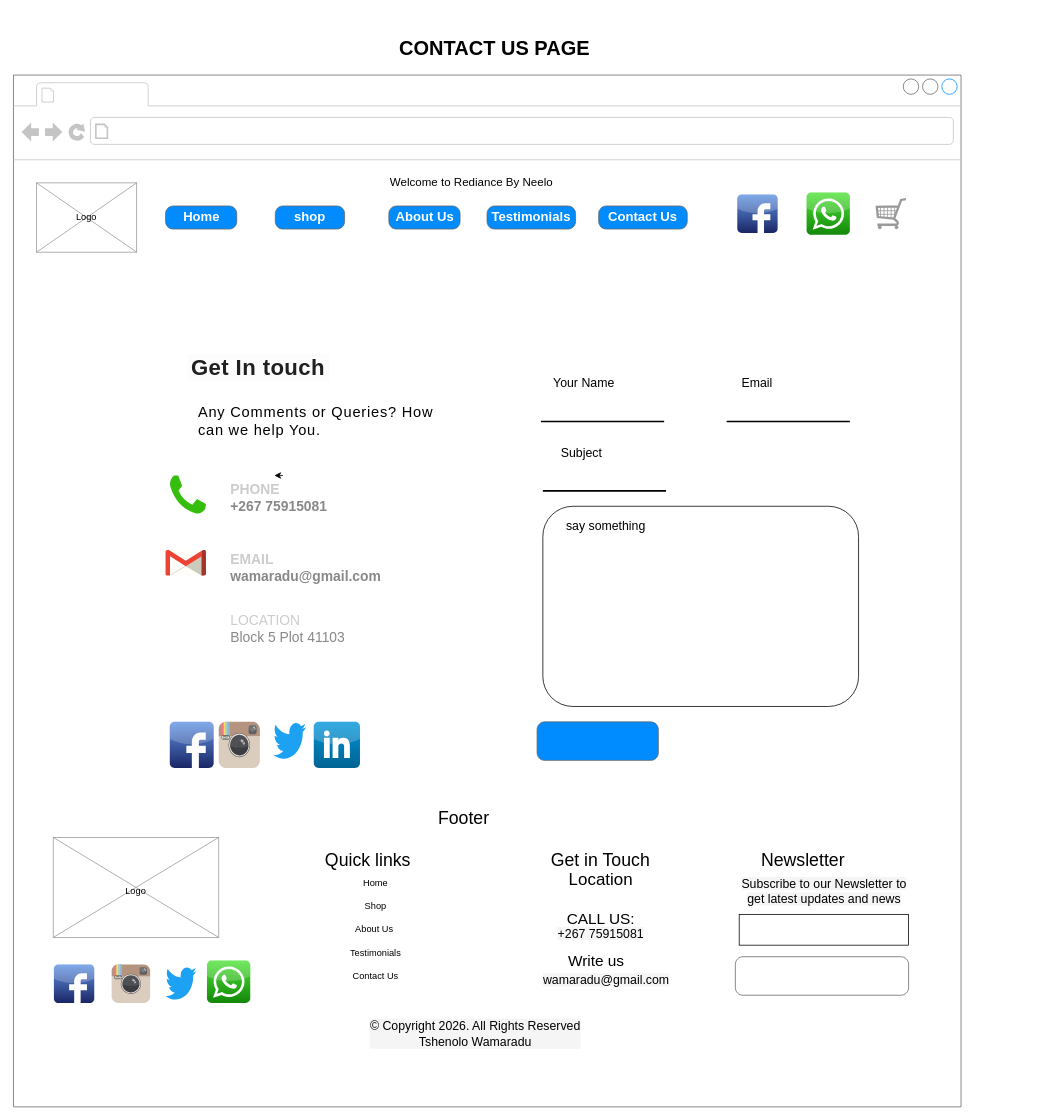
The diagram is 1051 pixels wide and 1120 high, and some of its shapes have lost their labels. The centre of each missing label's shape, as x and y in pixels:
"https://www.Radiance by Neelo.co.bw" belongs at (209,131).
"Rediance by Neelo" belongs at (98,94).
"SEND MESSAGE" belongs at (597,740).
"Subscrbe" belongs at (822,975).
